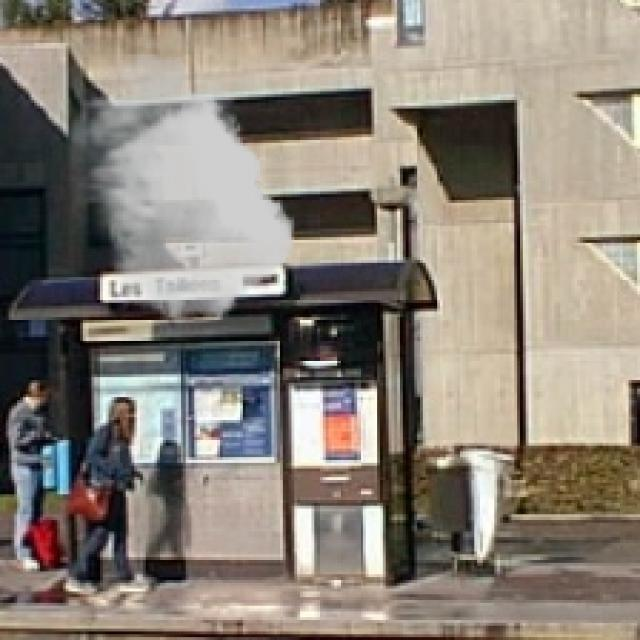smoke: (72, 54, 294, 323)
